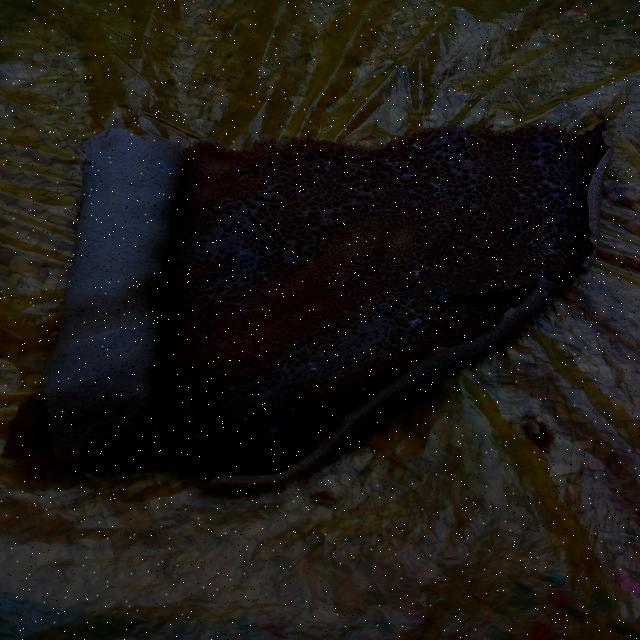injera_mold: (531, 230, 560, 267), (260, 419, 284, 443), (425, 177, 450, 198), (423, 284, 450, 302), (402, 308, 425, 328), (383, 154, 410, 169), (505, 219, 526, 236), (563, 244, 584, 258), (155, 406, 173, 421), (236, 253, 254, 266), (564, 231, 577, 241), (557, 190, 570, 200), (412, 142, 424, 152), (493, 261, 506, 270), (154, 164, 168, 172), (234, 301, 248, 309), (258, 270, 268, 279), (555, 215, 568, 221), (412, 269, 422, 276), (372, 303, 382, 309), (576, 215, 586, 221), (309, 367, 320, 372), (544, 142, 551, 149), (379, 276, 387, 281), (360, 387, 366, 393), (308, 362, 314, 366), (424, 267, 428, 270)
